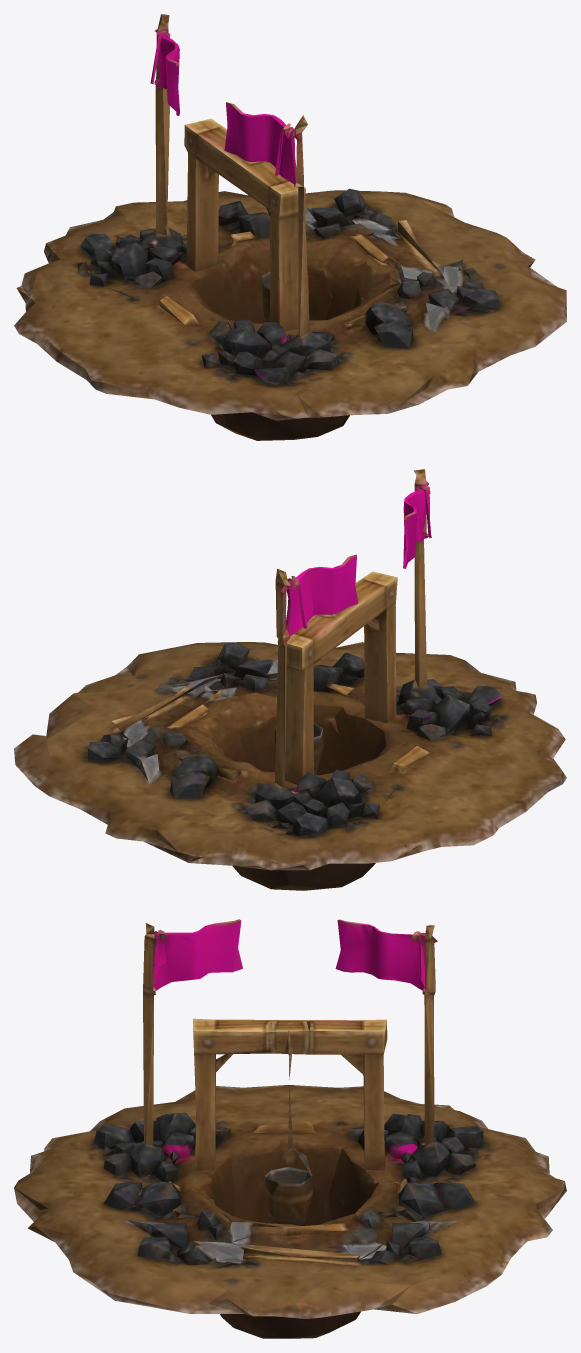
The model's file is iron_mine.lod1.glb.
3 renders of one model, top to bottom at view 1: azimuth 30°, elevation 25°; view 2: azimuth 150°, elevation 25°; view 3: azimuth 270°, elevation 25°, orthographic.
Visible parts, largest first — view 1: iron_mine.lod1_uv; view 2: iron_mine.lod1_uv; view 3: iron_mine.lod1_uv.
Part boxes in pixels (bbox=[...]): iron_mine.lod1_uv: bbox=[14, 14, 566, 440]; iron_mine.lod1_uv: bbox=[14, 469, 566, 890]; iron_mine.lod1_uv: bbox=[14, 919, 566, 1338].
Size of the model in its own units: 1.82 by 1.38 by 1.87.
Materials: 1 (1 with a texture image).
